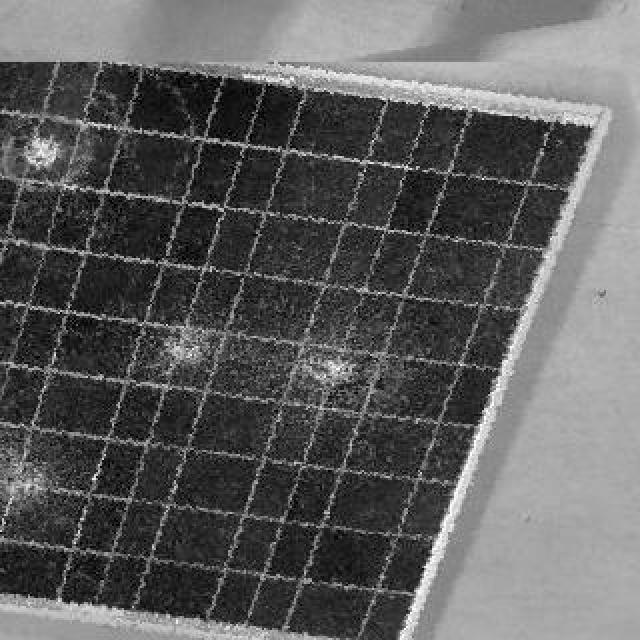Physical-damage: (22, 94, 96, 196), (302, 332, 385, 420), (0, 426, 63, 535), (158, 304, 230, 392)
